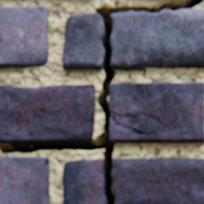brick: (109, 83, 203, 143), (0, 85, 95, 143), (0, 8, 48, 68), (0, 157, 50, 203)
broken_brick: (110, 10, 203, 71), (111, 159, 203, 203), (63, 14, 104, 70), (63, 159, 106, 203)
crack: (2, 0, 203, 203), (44, 158, 48, 166)
